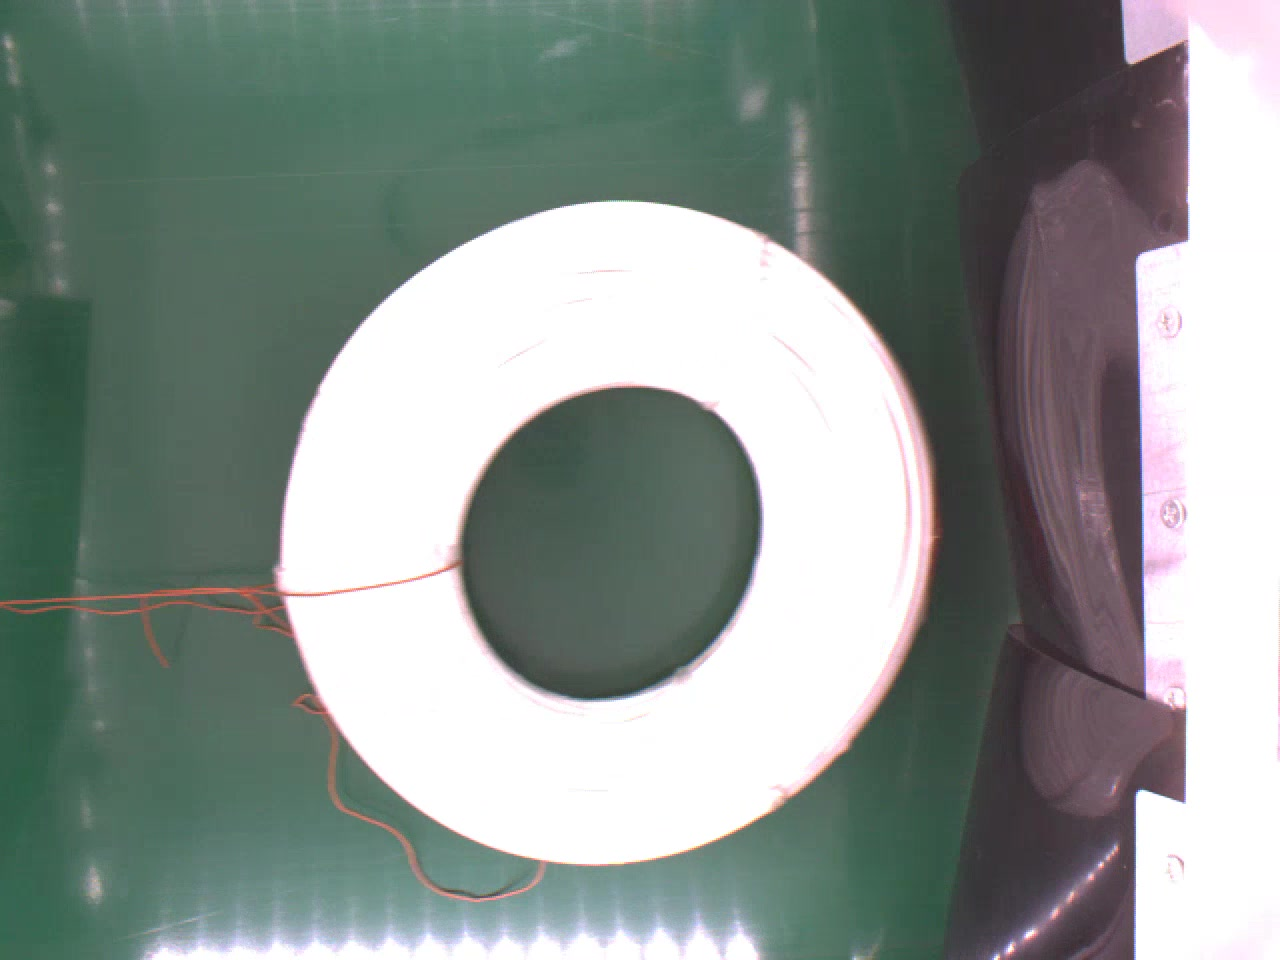white: (272, 196, 935, 868)
